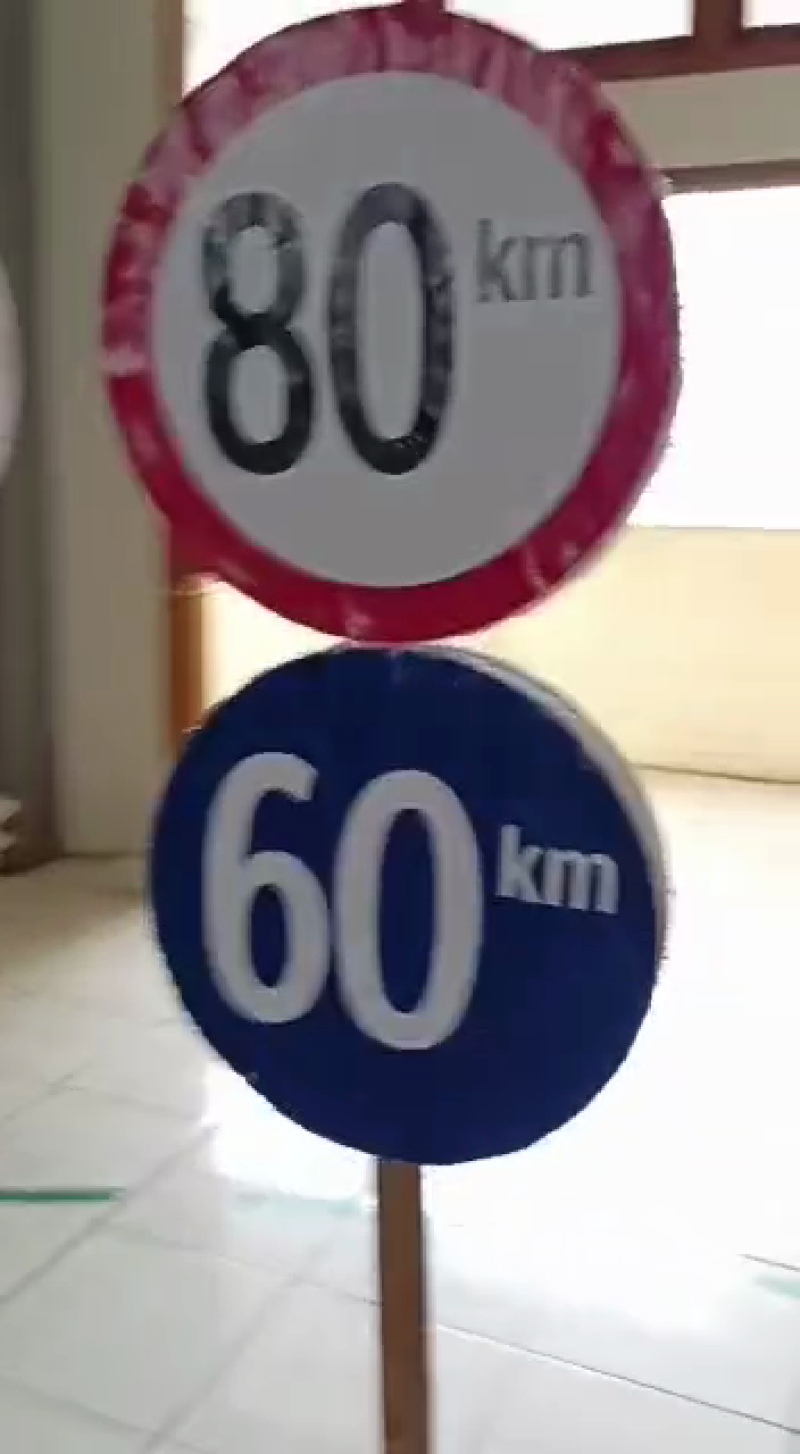batas maksimal 80kmperjam minimal 60kmperjam: (92, 1, 674, 1174)
